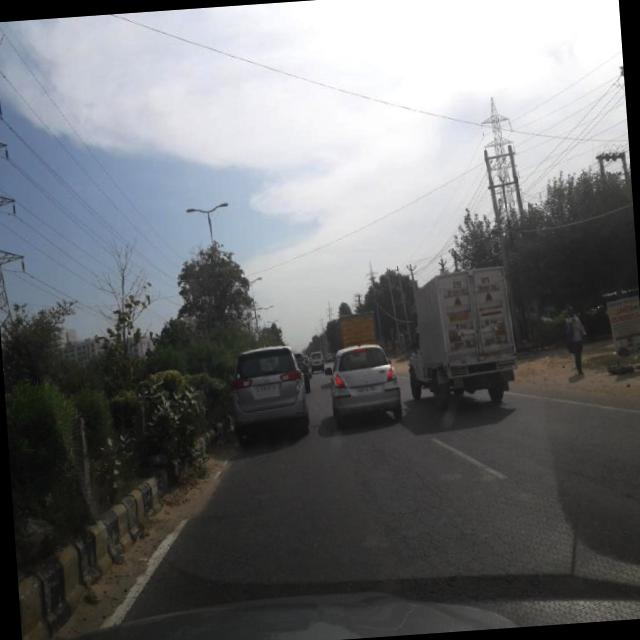crack: (191, 420, 629, 628)
